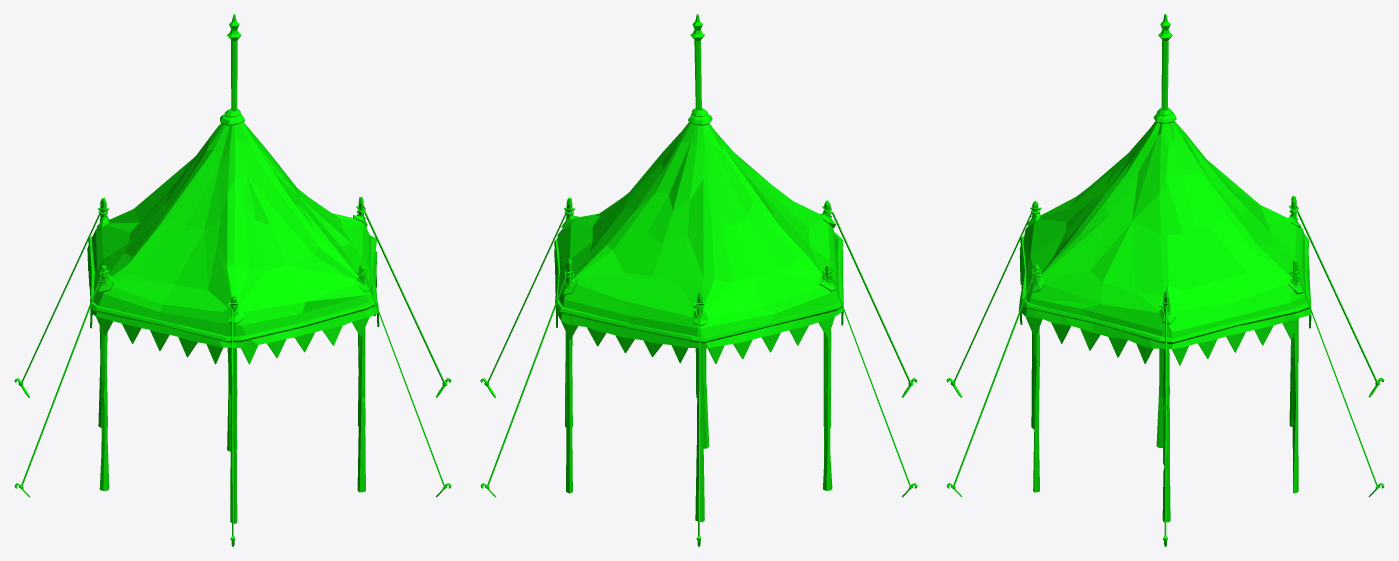
The model's file is SM_Market_Stall_A_Round_Roof_Plain.fbx.
3 renders of one model, left to right at view 1: azimuth 30°, elevation 25°; view 2: azimuth 150°, elevation 25°; view 3: azimuth 270°, elevation 25°, orthographic.
Parts seen in each view (by area): view 1: market-stall-a-round-roof-plain; view 2: market-stall-a-round-roof-plain; view 3: market-stall-a-round-roof-plain.
Part boxes in pixels (x1=…): market-stall-a-round-roof-plain: x1=14, y1=14, x2=451, y2=546; market-stall-a-round-roof-plain: x1=480, y1=14, x2=917, y2=546; market-stall-a-round-roof-plain: x1=946, y1=14, x2=1384, y2=546.
Bounding box in the file's own units: 8.07 × 7.9 × 7.02.
